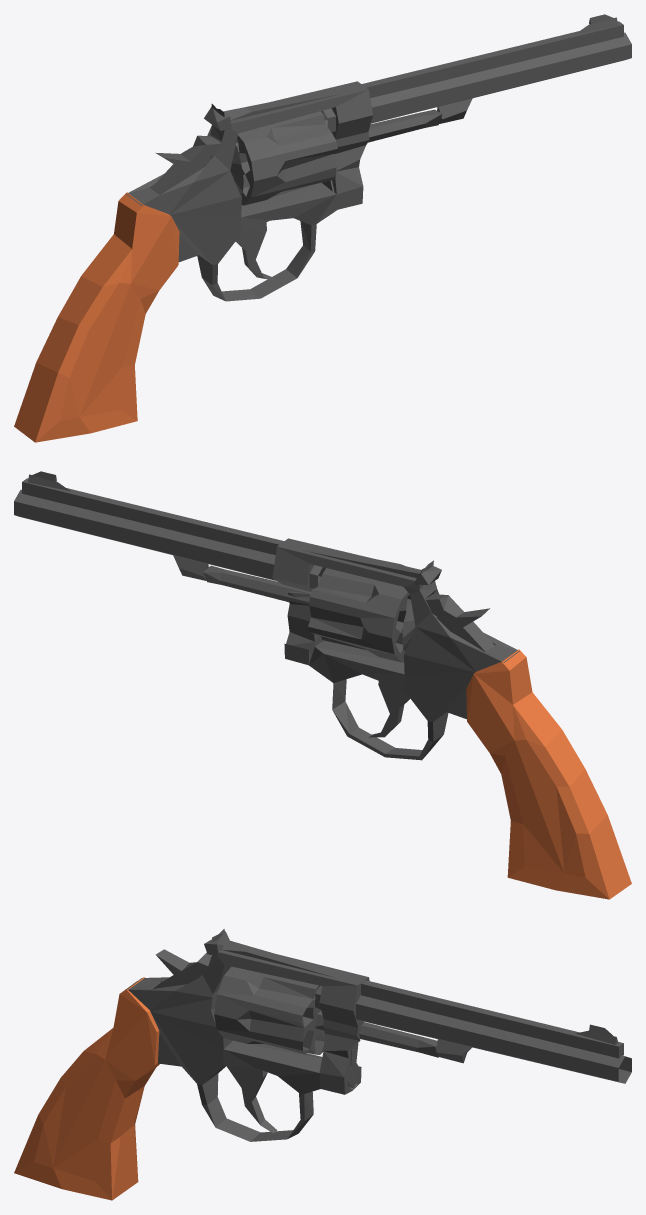
File: Revolver.fbx
The picture shows the model from 3 angles, top to bottom: view 1: azimuth 30°, elevation 25°; view 2: azimuth 150°, elevation 25°; view 3: azimuth 330°, elevation 25°; orthographic projection.
Parts seen in each view (by area): view 1: Hammer; view 2: Hammer; view 3: Hammer.
Part boxes in pixels (x1,y1,x2,y2): Hammer: (14, 14, 631, 442); Hammer: (14, 471, 631, 899); Hammer: (14, 929, 631, 1200).
Bounding box in the file's own units: 471 × 211 × 54.53.
